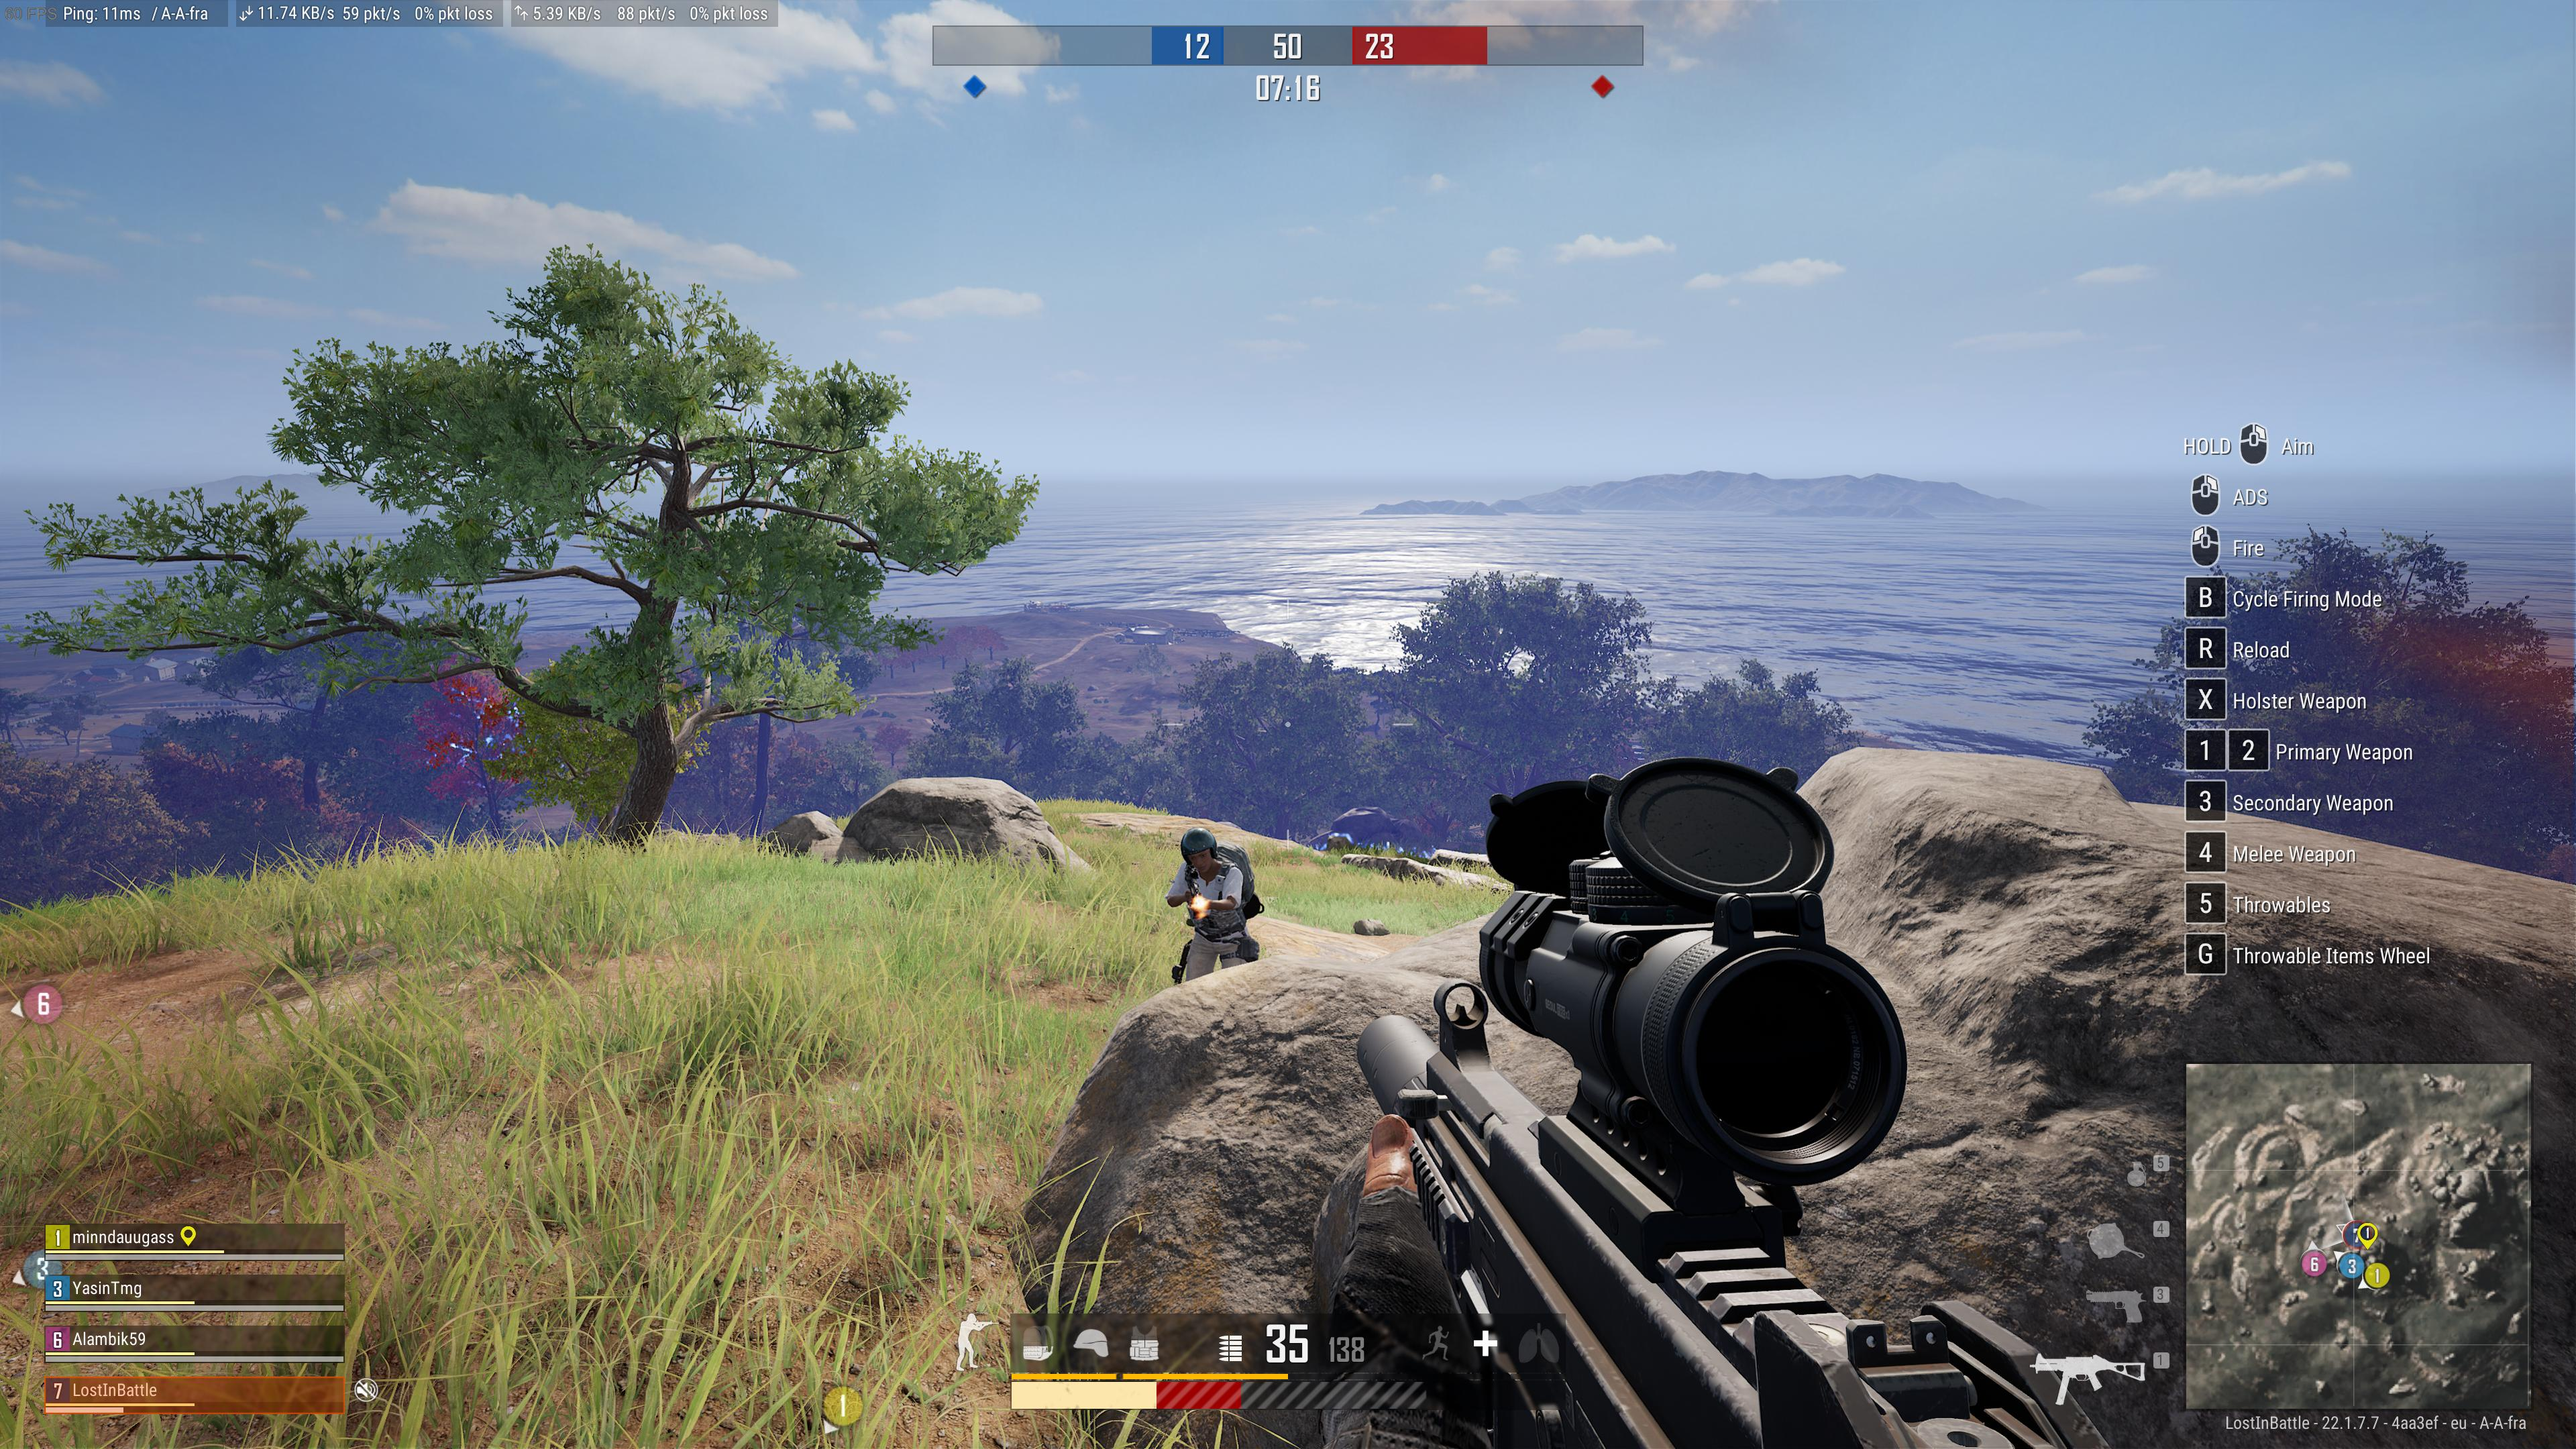enemy: (1164, 826, 1263, 970)
enemy_head: (1180, 826, 1217, 874)
